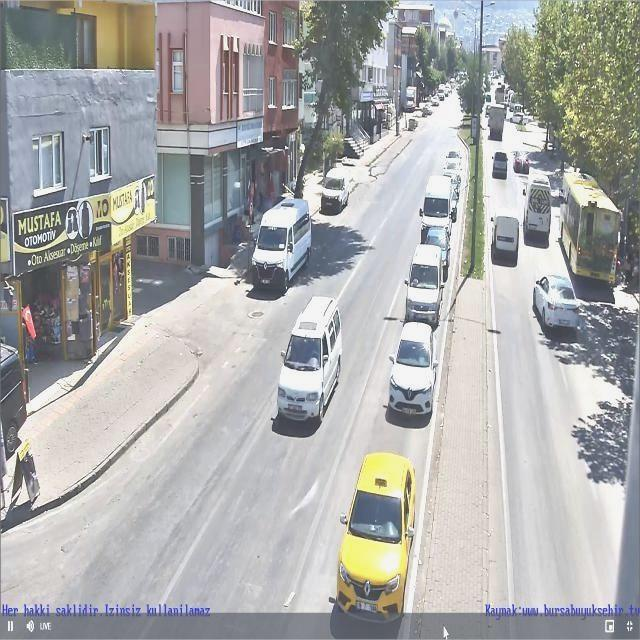Bus: (557, 168, 622, 288)
Car: (333, 451, 418, 624), (386, 322, 438, 416), (402, 245, 444, 323), (533, 274, 581, 334), (420, 225, 451, 277), (512, 150, 531, 175), (492, 151, 508, 179), (444, 150, 462, 172), (508, 112, 526, 125), (430, 97, 440, 106)
Truck: (489, 103, 506, 137), (405, 86, 418, 111)
Van: (276, 294, 344, 426), (250, 197, 313, 295), (0, 342, 28, 456), (417, 175, 456, 243), (522, 171, 554, 240), (488, 208, 522, 261), (321, 167, 350, 215)
